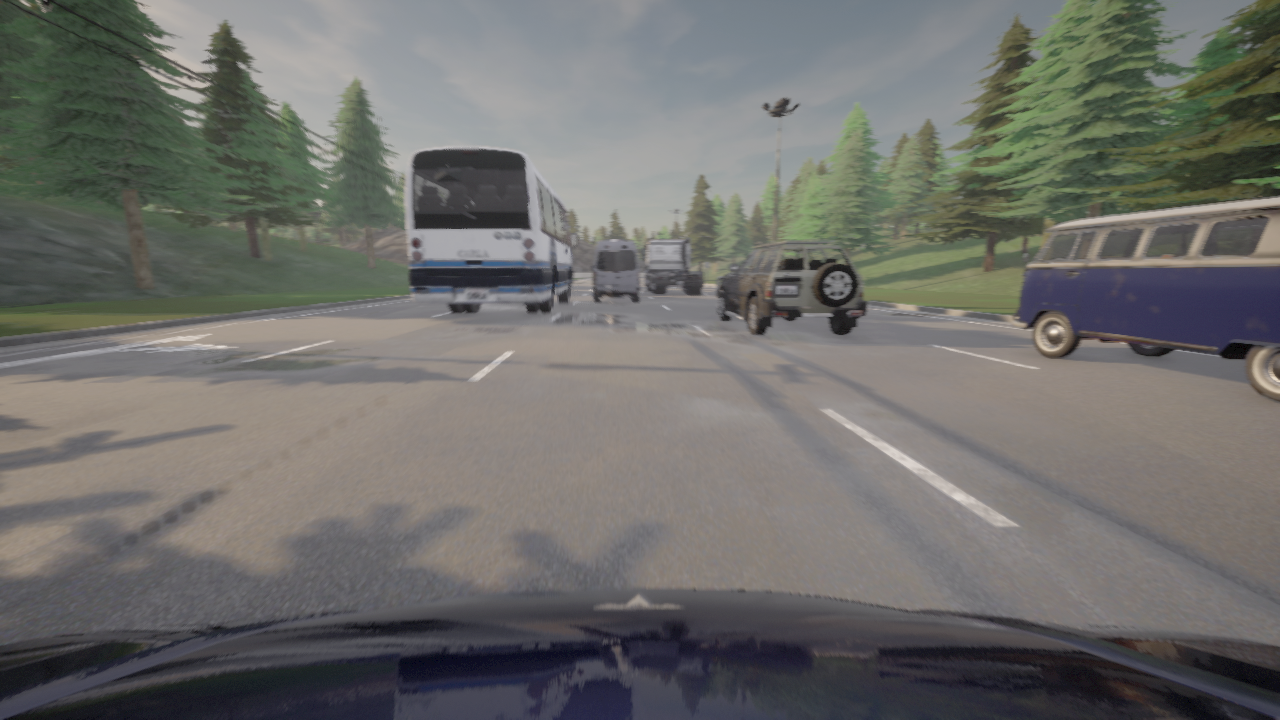cyclist: (0, 588, 1279, 719), (1012, 196, 1279, 401), (406, 145, 577, 313), (716, 240, 868, 335), (641, 238, 704, 294), (592, 240, 639, 301)
